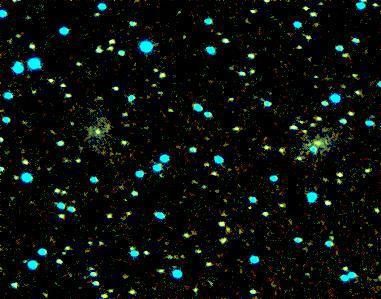star: (303, 128, 333, 158)
